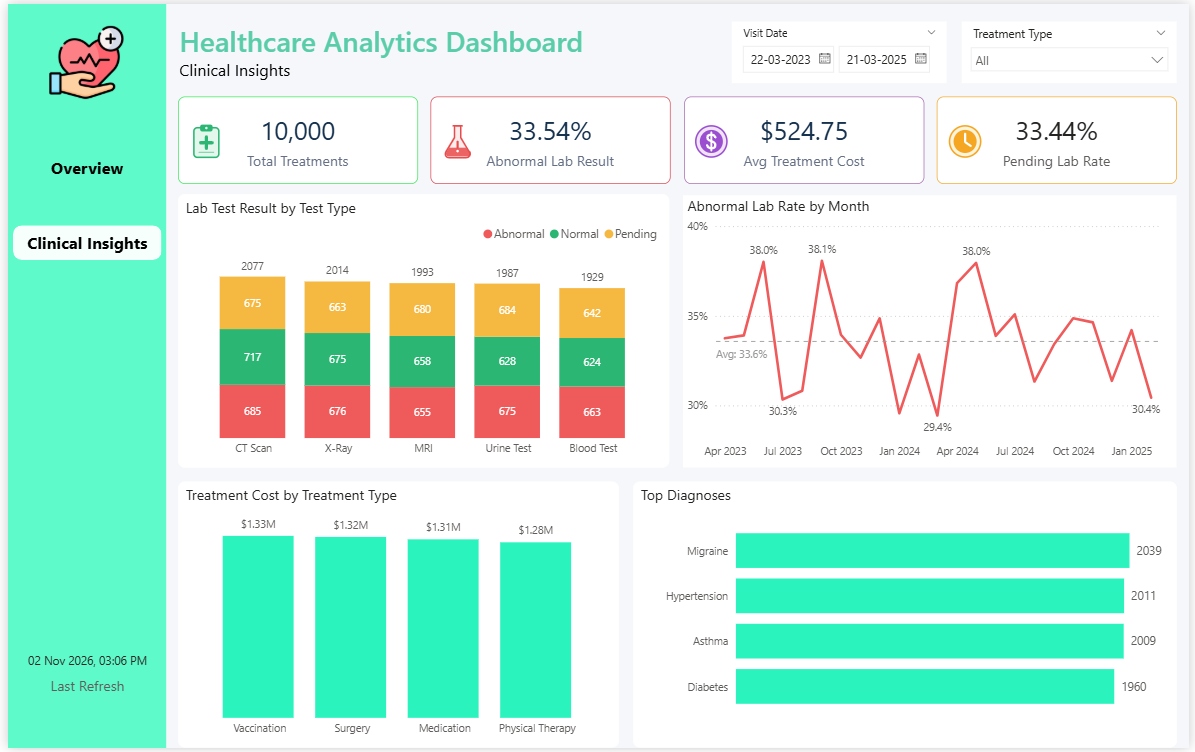

What the dashboard file says about the page in this screenshot:
{"tool":"powerbi","page":{"name":"Clinical & Treatment","canvas":[1350,850],"ordinal":11},"visuals":[{"type":"shape","box":[0,0,180.8,850.7],"z":0},{"type":"image","box":[20.5,24.7,139.7,84.9],"z":1000},{"type":"actionButton","box":[5.5,167.1,169.9,39.7],"z":2000},{"type":"actionButton","box":[5.5,253.4,169.9,39.7],"z":3000},{"type":"textbox","box":[186.3,0,1164.4,95.9],"z":4000},{"type":"card","fields":{"Values":["Count(healthcare_analytics treatments.Treatment ID)"]},"box":[194.3,105,274.3,100],"z":5000},{"type":"card","fields":{"Values":["healthcare_analytics lab-result.Abnormal Lab Result %"]},"box":[483,105,274,100],"z":6000},{"type":"card","fields":{"Values":["healthcare_analytics treatments.Average Treatment Cost per Visit"]},"box":[773,105,274,100],"z":7000},{"type":"card","fields":{"Values":["healthcare_analytics visit.Last Updated"]},"box":[0,676.7,182.2,174],"z":8000},{"type":"columnChart","title":"Lab Test Result by Test Type","fields":{"Category":["healthcare_analytics lab-result.Test Name"],"Series":["healthcare_analytics lab-result.Test Result"],"Y":["CountNonNull(healthcare_analytics lab-result.Test Result)"]},"box":[194.3,217.1,561.4,312.9],"z":9000},{"type":"clusteredColumnChart","title":"Treatment Cost by Treatment Type","fields":{"Category":["healthcare_analytics treatments.Treatment Type"],"Y":["Sum(healthcare_analytics treatments.Treatment Cost)"]},"box":[194.3,545.7,504.3,304.3],"z":11000},{"type":"clusteredBarChart","title":"Top Diagnoses","fields":{"Category":["healthcare_analytics visit.Diagnosis"],"Y":["Count(healthcare_analytics visit.Visit ID)"]},"box":[714.3,545.7,621.4,304.3],"z":12000},{"type":"slicer","fields":{"Values":["healthcare_analytics visit.Visit Date Clean"]},"box":[827,20,245.7,70],"z":13000},{"type":"card","fields":{"Values":["healthcare_analytics lab-result.Pending Lab Rate"]},"box":[1061.4,105,274,100],"z":15000},{"type":"image","box":[194.3,134.3,64.3,45.7],"z":19000},{"type":"image","box":[481.4,134.3,64.3,45.7],"z":19500},{"type":"image","box":[771.4,134.3,64.3,45.7],"z":20000},{"type":"image","box":[1061.4,134.3,64.3,45.7],"z":20500},{"type":"lineChart","title":"Abnormal Lab Rate by Month","fields":{"Category":["healthcare_analytics visit.Month Start"],"Y":["healthcare_analytics lab-result.Abnormal Lab Result %"]},"box":[771.4,218.6,564.3,311.4],"z":20501},{"type":"slicer","fields":{"Values":["healthcare_analytics treatments.Treatment Type"]},"box":[1090,20,245.7,70],"z":20502}]}

Visuals, with their boxes in screenshot pixels (x1, y1, x2, y2), scaled from the page's 1350x850 canvas onto the 1195x752 screenshot:
shape: x1=0, y1=0, x2=160, y2=751
image: x1=18, y1=22, x2=142, y2=97
actionButton: x1=5, y1=148, x2=155, y2=183
actionButton: x1=5, y1=224, x2=155, y2=259
textbox: x1=165, y1=0, x2=1194, y2=85
card - Count(healthcare_analytics treatments.Treatment ID): x1=172, y1=93, x2=415, y2=181
card - healthcare_analytics lab-result.Abnormal Lab Result %: x1=428, y1=93, x2=670, y2=181
card - healthcare_analytics treatments.Average Treatment Cost per Visit: x1=684, y1=93, x2=927, y2=181
card - healthcare_analytics visit.Last Updated: x1=0, y1=599, x2=161, y2=751
"Lab Test Result by Test Type" columnChart: x1=172, y1=192, x2=669, y2=469
"Treatment Cost by Treatment Type" clusteredColumnChart: x1=172, y1=483, x2=618, y2=751
"Top Diagnoses" clusteredBarChart: x1=632, y1=483, x2=1182, y2=751
slicer - healthcare_analytics visit.Visit Date Clean: x1=732, y1=18, x2=950, y2=80
card - healthcare_analytics lab-result.Pending Lab Rate: x1=940, y1=93, x2=1182, y2=181
image: x1=172, y1=119, x2=229, y2=159
image: x1=426, y1=119, x2=483, y2=159
image: x1=683, y1=119, x2=740, y2=159
image: x1=940, y1=119, x2=996, y2=159
"Abnormal Lab Rate by Month" lineChart: x1=683, y1=193, x2=1182, y2=469
slicer - healthcare_analytics treatments.Treatment Type: x1=965, y1=18, x2=1182, y2=80
